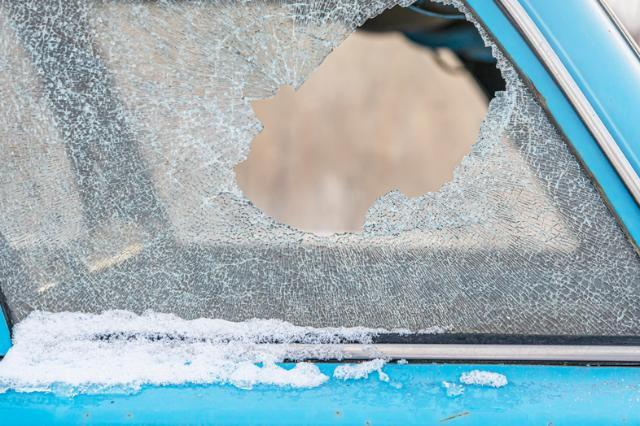Windshield: (0, 0, 640, 342)
